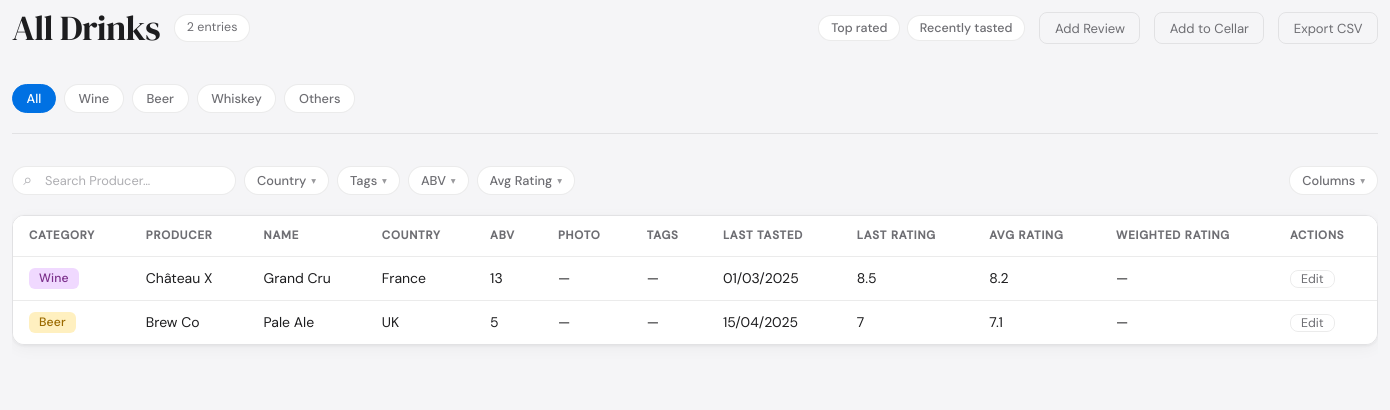
it: clicking × on Avg Rating chip clears the filter
This screenshot has width=1390, height=410.
Expected: the text "Grand Cru" is shown, [248, 256, 366, 300]
Click the button with test id "filter-avgRating" at point(526, 180), box [476, 166, 575, 194]
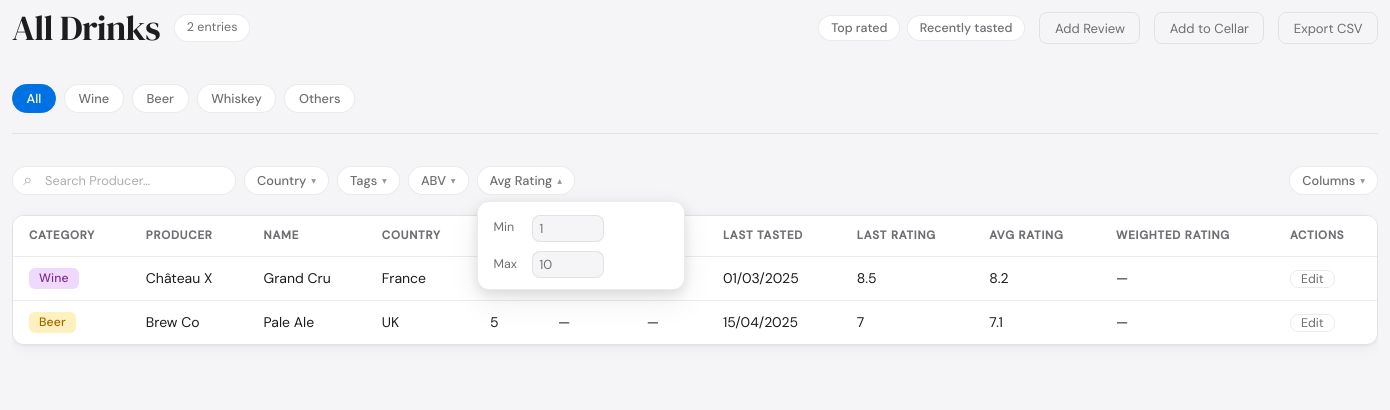
Type "7" into the number field with test id "avgRating-min" at point(568, 228), box [532, 215, 604, 242]
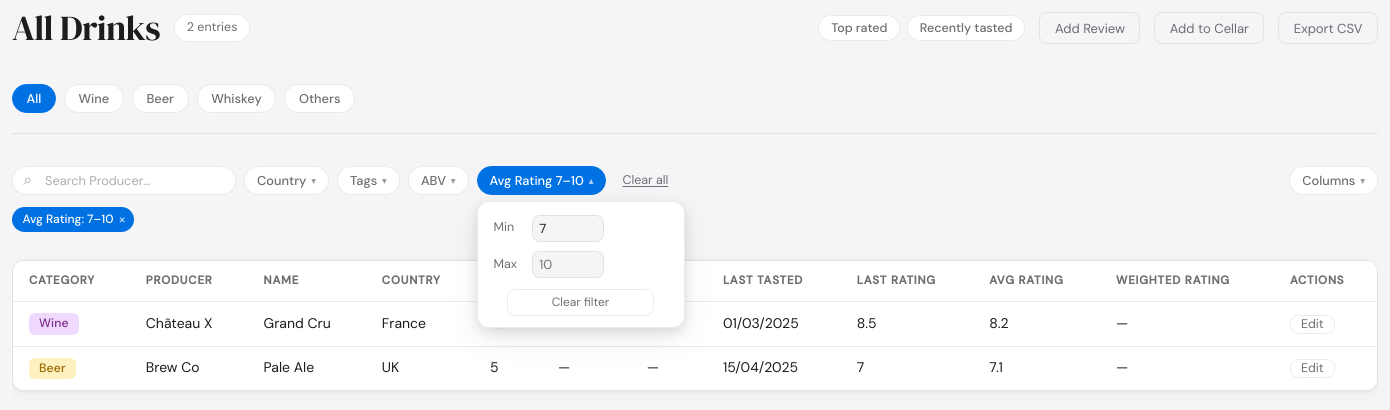
Click the button named "Remove Avg Rating filter" at point(122, 219), box [118, 212, 126, 226]
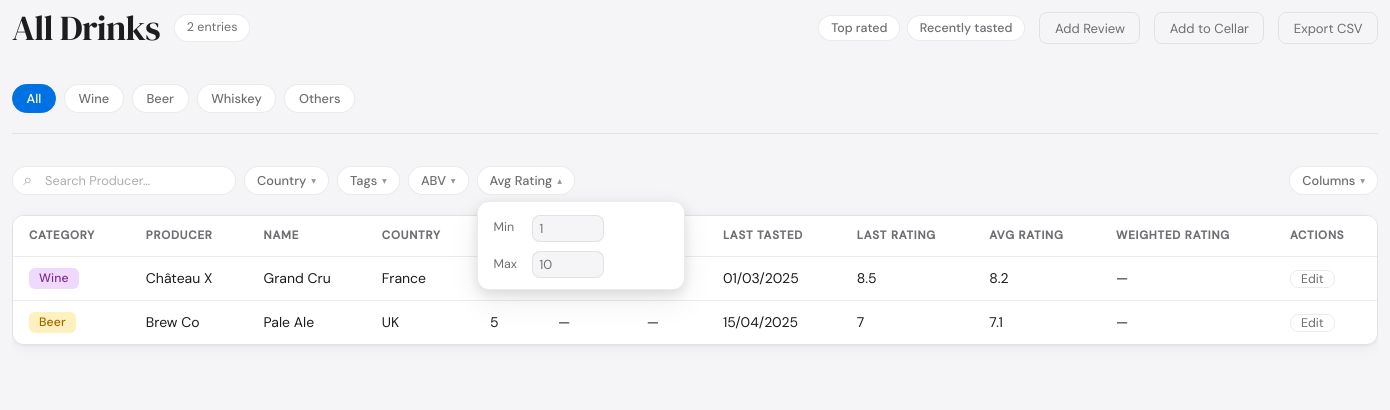
Now the element with class "filter-chips" is gone
